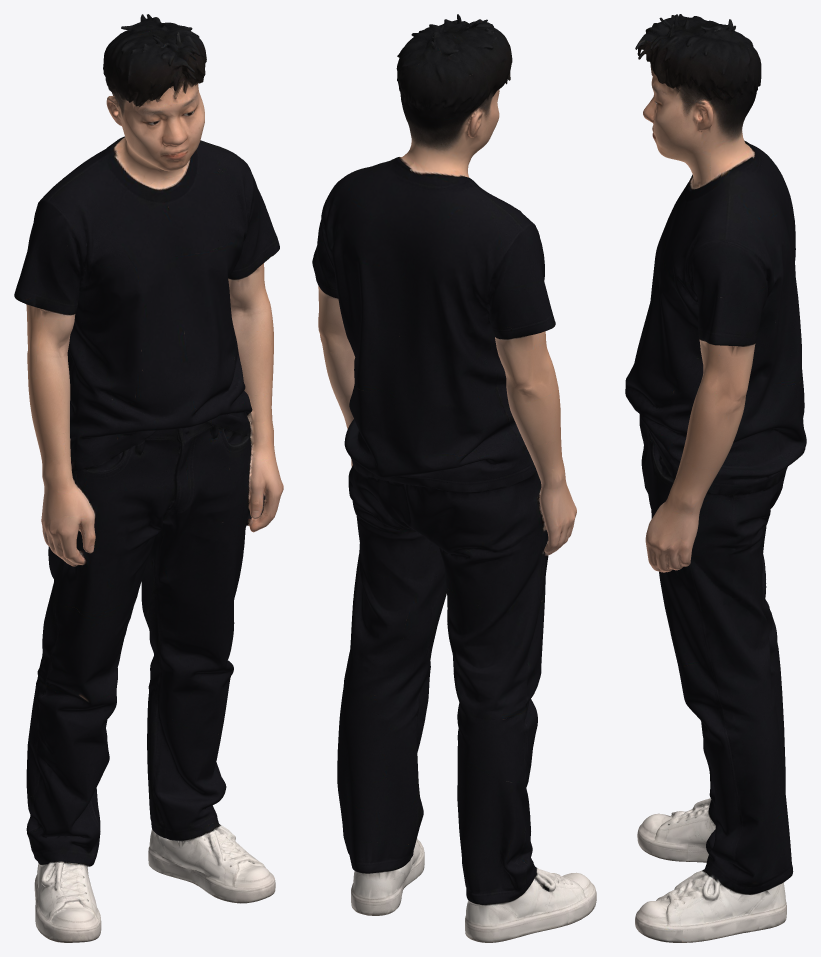
File: hongyi.glb
3 views of the same model, side by side, from view 1: azimuth 30°, elevation 25°; view 2: azimuth 150°, elevation 25°; view 3: azimuth 270°, elevation 25° (orthographic).
Visible parts, largest first — view 1: mesh_node; view 2: mesh_node; view 3: mesh_node.
Part boxes in pixels (x1=…): mesh_node: x1=14, y1=14, x2=283, y2=942; mesh_node: x1=312, y1=14, x2=596, y2=942; mesh_node: x1=625, y1=14, x2=806, y2=942.
Bounding box in the file's own units: 0.5806 × 1.9 × 0.3567.
1 material, 1 textured.
